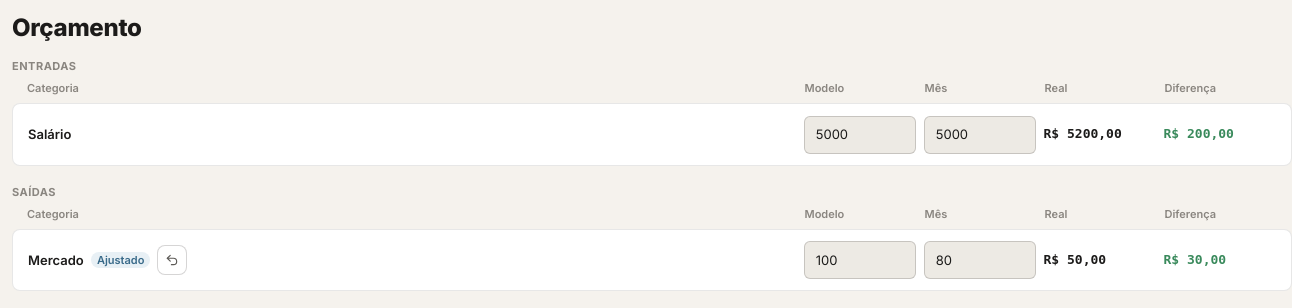
Test: FinanceBudgetPage › removes the override returning the line to the template
The image size is (1292, 308).
Click the button named "Voltar Mercado ao modelo".
click(172, 260)  # box [158,245,188,275]
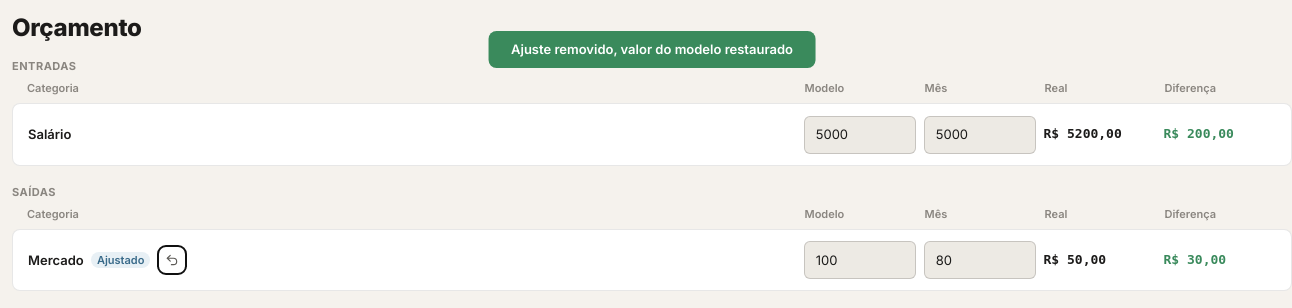
expect the message reads "Ajuste removido, valor do modelo restaurado": met, box [511,41,793,57]
